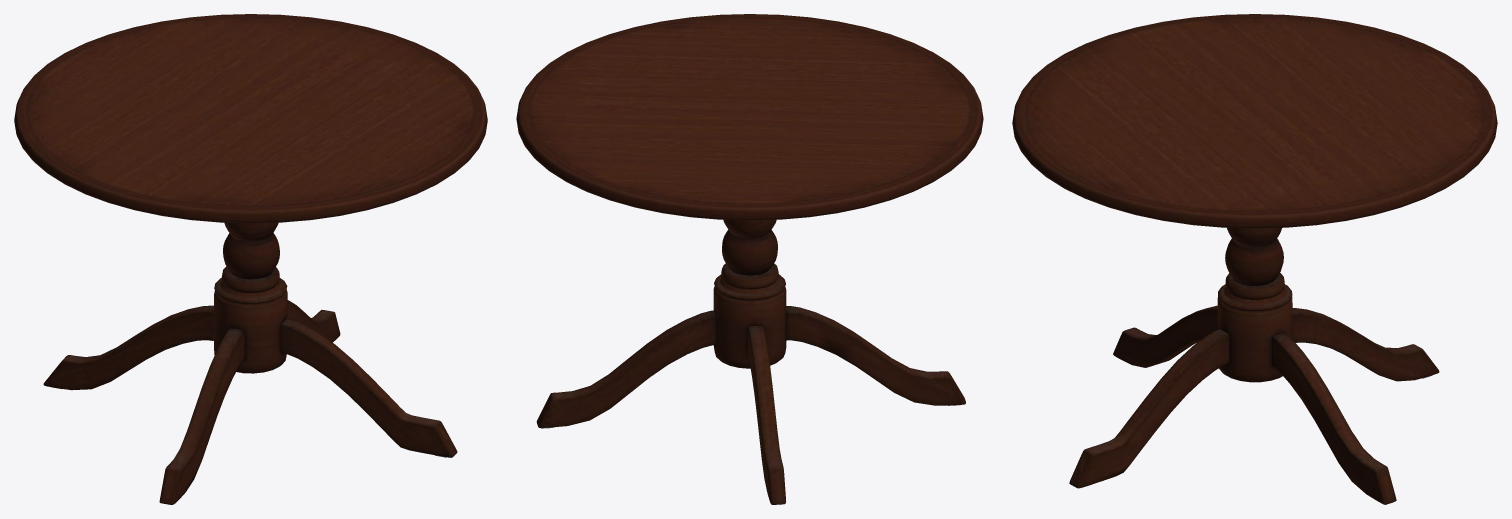
Rendered from round_wooden_table_01.glb.
3 views of the same model, side by side, from view 1: azimuth 30°, elevation 25°; view 2: azimuth 150°, elevation 25°; view 3: azimuth 270°, elevation 25° (orthographic). The views are drawn at different scales.
Visible parts, largest first — view 1: round_wooden_table_01; view 2: round_wooden_table_01; view 3: round_wooden_table_01.
Part boxes in pixels (x1=…): round_wooden_table_01: x1=14, y1=14, x2=487, y2=504; round_wooden_table_01: x1=516, y1=14, x2=983, y2=504; round_wooden_table_01: x1=1012, y1=14, x2=1497, y2=504.
Size of the model in its own units: 1.4 by 1 by 1.4.
Materials: 1 (1 with a texture image).
